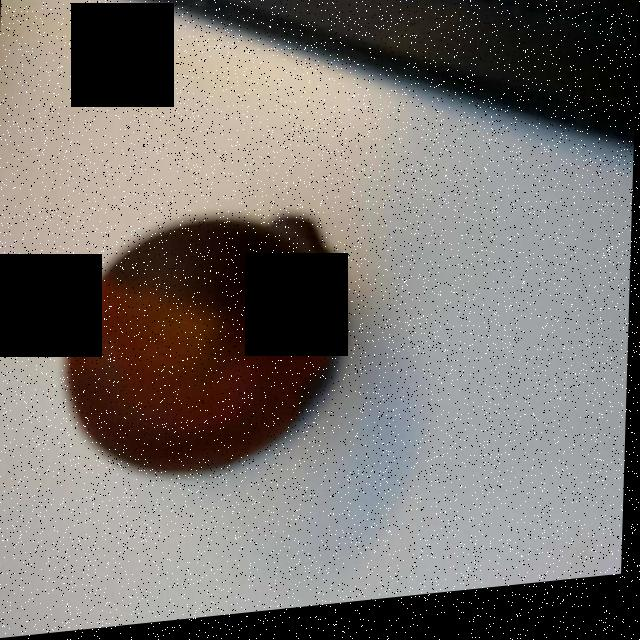chocolate: (74, 222, 337, 480)
